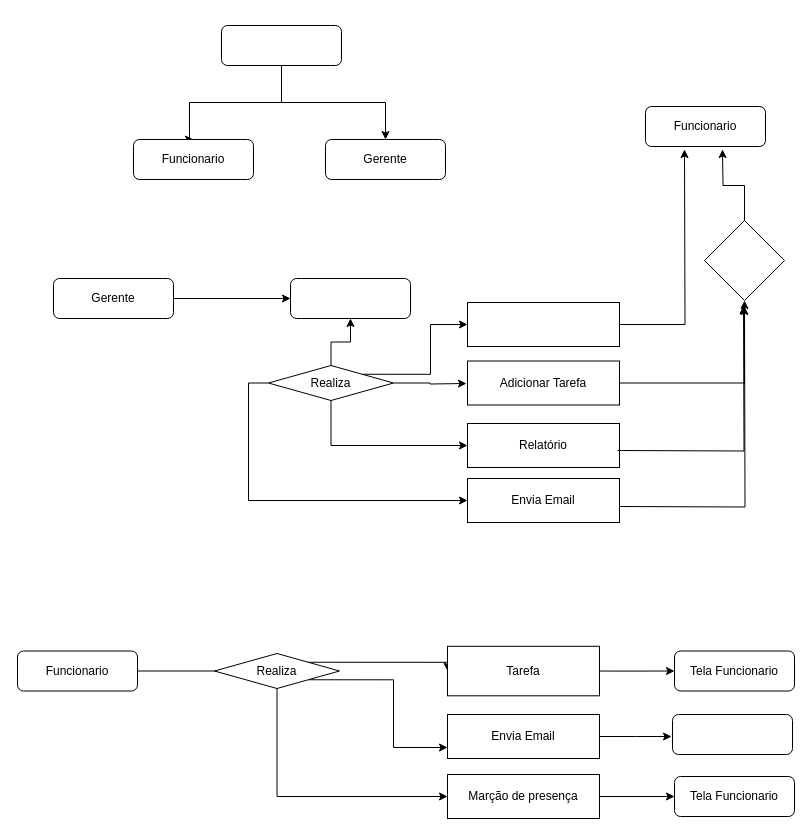
This 812x836 diagram has some shape labels left out. The shapes that lost their labels are listed below. From the top down, each one's centre as x and y in pixels, then its label:
point (281, 45): User
point (744, 260): Envia
point (350, 298): Tela Gerente
point (543, 324): Adicionar Funcionario
point (732, 734): Tela contato
